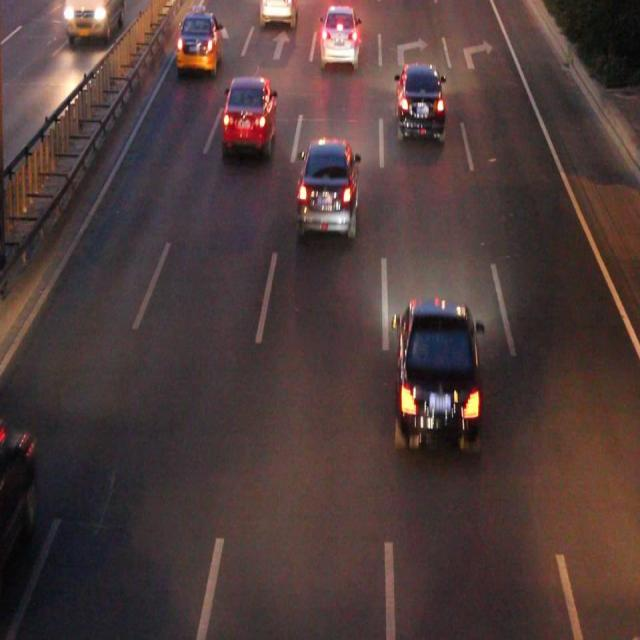car: (396, 301, 477, 441), (300, 143, 356, 229), (1, 425, 35, 561), (225, 77, 275, 149), (395, 70, 442, 134), (178, 16, 220, 67), (321, 10, 356, 66), (260, 1, 296, 23)
